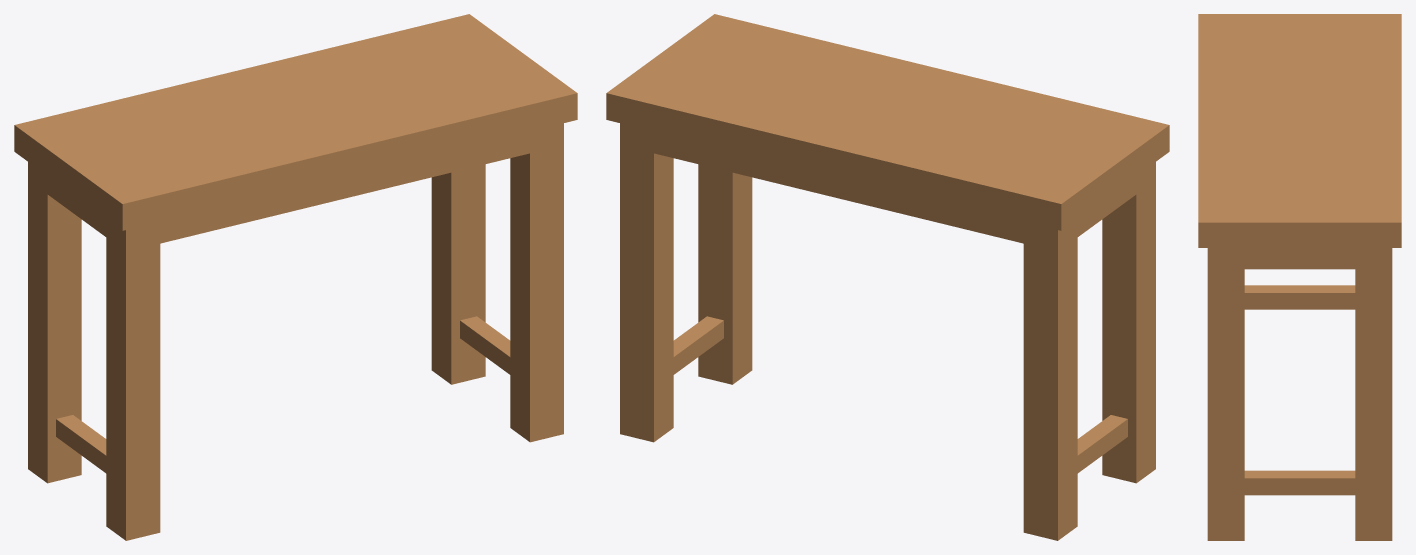
Rendered from kitSideTable.glb.
The picture shows the model from 3 angles, left to right: view 1: azimuth 30°, elevation 25°; view 2: azimuth 150°, elevation 25°; view 3: azimuth 270°, elevation 25°; orthographic projection. The views are drawn at different scales.
Visible parts, largest first — view 1: kitSideTable_wood; view 2: kitSideTable_wood; view 3: kitSideTable_wood.
Boxes of the visible parts, x1,y1,x2,y2 form: kitSideTable_wood: [14, 14, 577, 540]; kitSideTable_wood: [606, 14, 1169, 540]; kitSideTable_wood: [1198, 14, 1401, 540].
Size of the model in its own units: 0.96 by 0.6905 by 0.3952.
